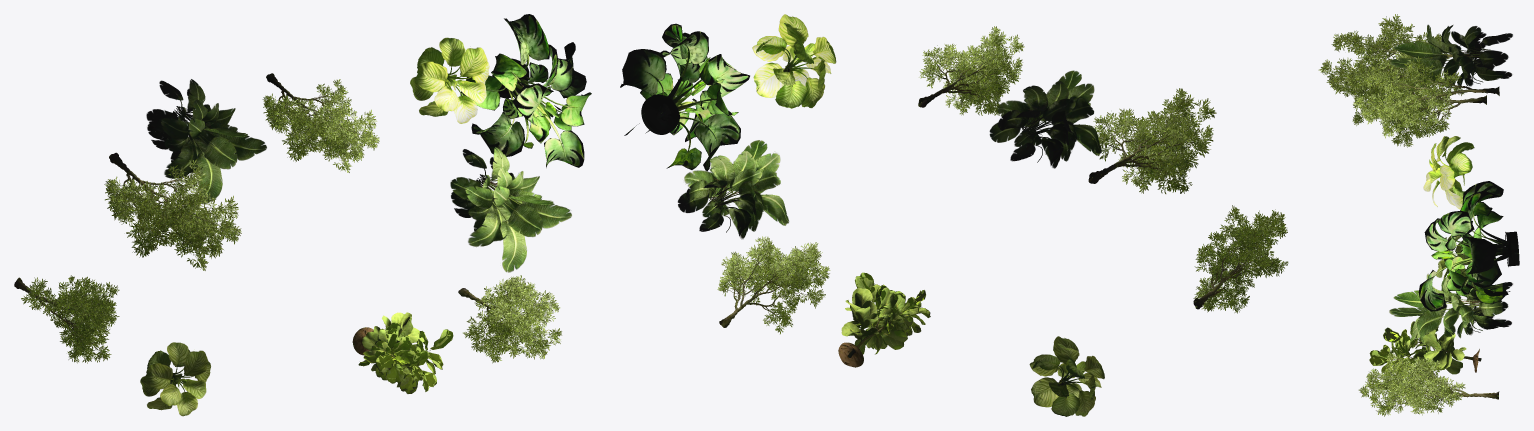
The model's file is plants-optimized.glb.
3 renders of one model, left to right at view 1: azimuth 30°, elevation 25°; view 2: azimuth 150°, elevation 25°; view 3: azimuth 270°, elevation 25°, orthographic. The views are drawn at different scales.
Parts seen in each view (by area): view 1: OBJECT 4, OBJECT 2, OBJECT 1, OBJECT 3, OBJECT 5; view 2: OBJECT 4, OBJECT 2, OBJECT 1, OBJECT 3, OBJECT 5; view 3: OBJECT 4, OBJECT 2, OBJECT 1, OBJECT 5, OBJECT 3.
Part boxes in pixels (left/top/right/bottom): OBJECT 4: left=14, top=73, right=561, bottom=363; OBJECT 2: left=146, top=79, right=571, bottom=272; OBJECT 1: left=460, top=14, right=591, bottom=167; OBJECT 3: left=140, top=37, right=489, bottom=416; OBJECT 5: left=352, top=312, right=453, bottom=393; OBJECT 4: left=717, top=26, right=1288, bottom=334; OBJECT 2: left=677, top=70, right=1101, bottom=239; OBJECT 1: left=620, top=23, right=749, bottom=171; OBJECT 3: left=752, top=14, right=1104, bottom=416; OBJECT 5: left=838, top=272, right=930, bottom=367; OBJECT 4: left=1318, top=14, right=1499, bottom=416; OBJECT 2: left=1389, top=24, right=1512, bottom=343; OBJECT 1: left=1418, top=181, right=1519, bottom=311; OBJECT 5: left=1369, top=321, right=1481, bottom=377; OBJECT 3: left=1423, top=136, right=1474, bottom=285.
Bounding box in the file's own units: 4.97 × 2.58 × 1.7.
Materials: 5 (5 with a texture image).
